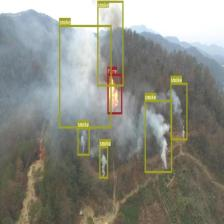fire: (107, 73, 122, 114)
smoke: (59, 25, 111, 128), (97, 0, 123, 86), (144, 99, 172, 172), (170, 82, 188, 140), (78, 127, 90, 155), (99, 146, 108, 178)
